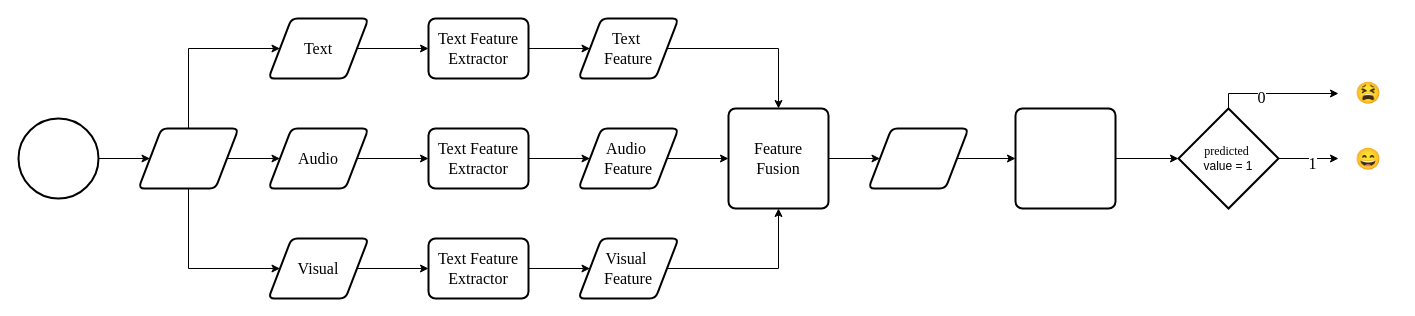
The diagram is 1415 pixels wide and 316 high, and some of its shapes have lost their labels. Here are the shapes that lost their labels. From the top down, the box of each, then its label:
(137, 127, 239, 189): Video
(867, 127, 969, 189): Fused Feature
(1014, 107, 1116, 209): Predict Sentiment
